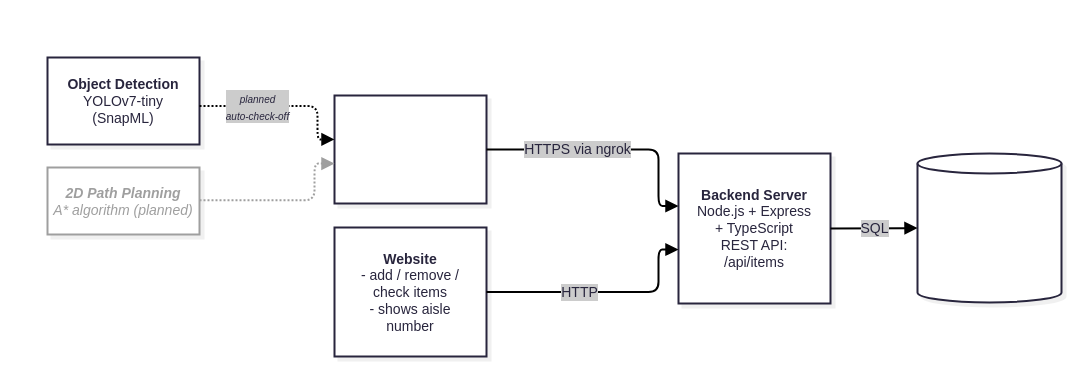
Image size: 1083x378. Some labels were removed from this diagram. The centre of each missing label's shape, as x and y in pixels:
"AR Checklist - pinch to check off - refreshes every 5 secs" goes at pixel 412 151.
"MySQL grocery_items name, aisle, status" goes at pixel 991 229.
